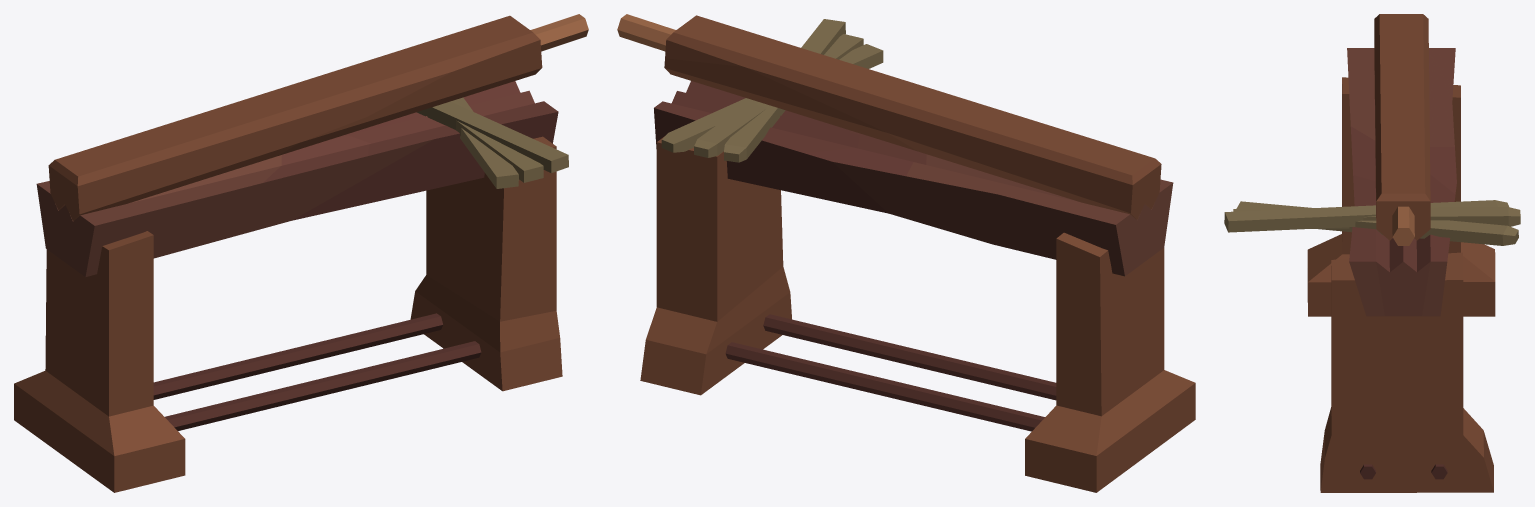
Rendered from linen_soft.fbx.
3 views of the same model, side by side, from view 1: azimuth 30°, elevation 25°; view 2: azimuth 150°, elevation 25°; view 3: azimuth 270°, elevation 25° (orthographic). The views are drawn at different scales.
Parts seen in each view (by area): view 1: linen_soft, deck_linen_soft, dry_flax.010; view 2: linen_soft, deck_linen_soft, dry_flax.010; view 3: linen_soft, deck_linen_soft, dry_flax.010.
Part boxes in pixels (x1=…): linen_soft: x1=14, y1=81, x2=562, y2=492; deck_linen_soft: x1=48, y1=14, x2=588, y2=220; dry_flax.010: x1=416, y1=97, x2=568, y2=188; linen_soft: x1=640, y1=81, x2=1195, y2=492; deck_linen_soft: x1=617, y1=14, x2=1161, y2=219; dry_flax.010: x1=661, y1=19, x2=883, y2=162; linen_soft: x1=1307, y1=48, x2=1495, y2=492; deck_linen_soft: x1=1374, y1=14, x2=1430, y2=245; dry_flax.010: x1=1224, y1=200, x2=1520, y2=245.
Size of the model in its own units: 84.65 by 49.6 by 44.21.
